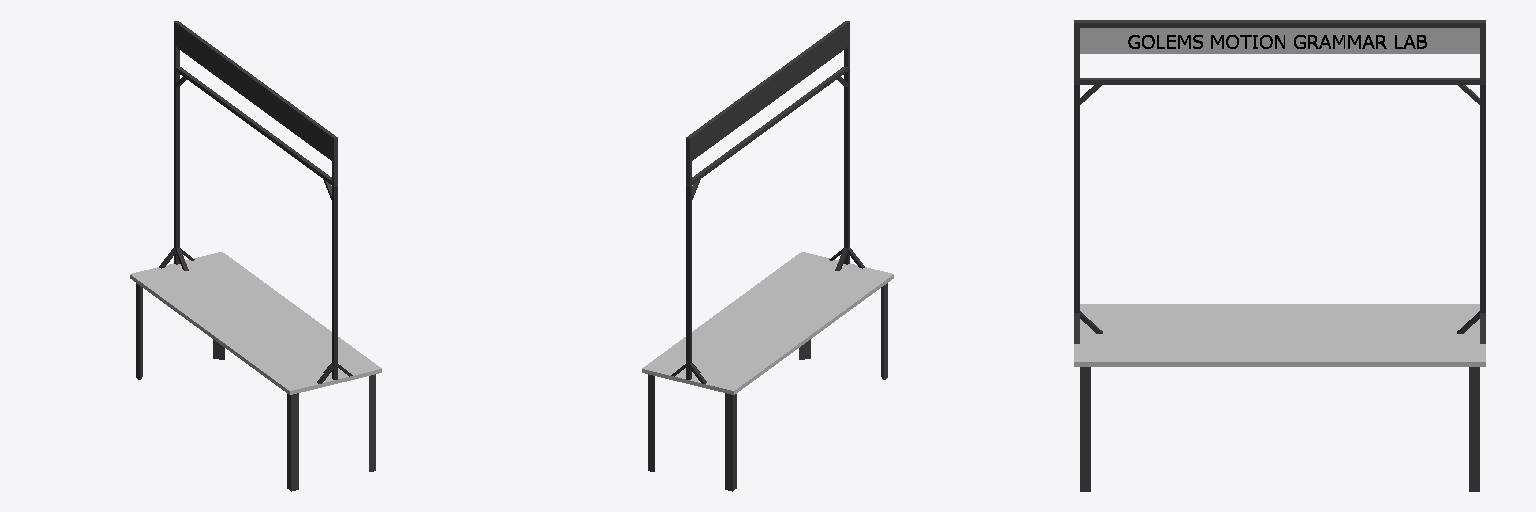
The robot description file, URDF, robot "LWA4_table":
<robot name="LWA4_table">
  <link name="LWA4_table">
    <inertial>
      <origin xyz="0.0 0.0 0.0" rpy="0 0 0"/>
      <mass value="5.0"/>
      <inertia ixx="1" ixy="0.0" ixz="0.0" iyy="1" iyz="0.0" izz="1" />
    </inertial>

    <visual>
      <geometry>
        <mesh filename="../meshes/LWA4_table_title.dae" scale="1 1 1" />
      </geometry>
     </visual>

    <collision>
      <geometry>
        <mesh filename="../meshes/LWA4_table_title.dae" scale="1 1 1" />
      </geometry>
    </collision>

  </link>
</robot>

--- What the picture shows (computed from the rendered views, not written in the file) ---
3 views of the same robot in one strip: view 1: azimuth 30°, elevation 25°; view 2: azimuth 150°, elevation 25°; view 3: azimuth 270°, elevation 25° (orthographic).
Robot: LWA4_table — 1 links, 0 joints (none); root link LWA4_table; default pose: all joints at 0.
Visible links, largest first — view 1: LWA4_table; view 2: LWA4_table; view 3: LWA4_table.
Boxes of the visible links, bbox=[...] form: LWA4_table: bbox=[130, 21, 381, 491]; LWA4_table: bbox=[642, 21, 893, 491]; LWA4_table: bbox=[1074, 20, 1485, 491].
Bounding box of the posed robot: 0.6096 × 1.83 × 2.17 m (x, y, z).
Meshes: 1 distinct files referenced, 1 mesh visuals loaded (1 Collada DAE).